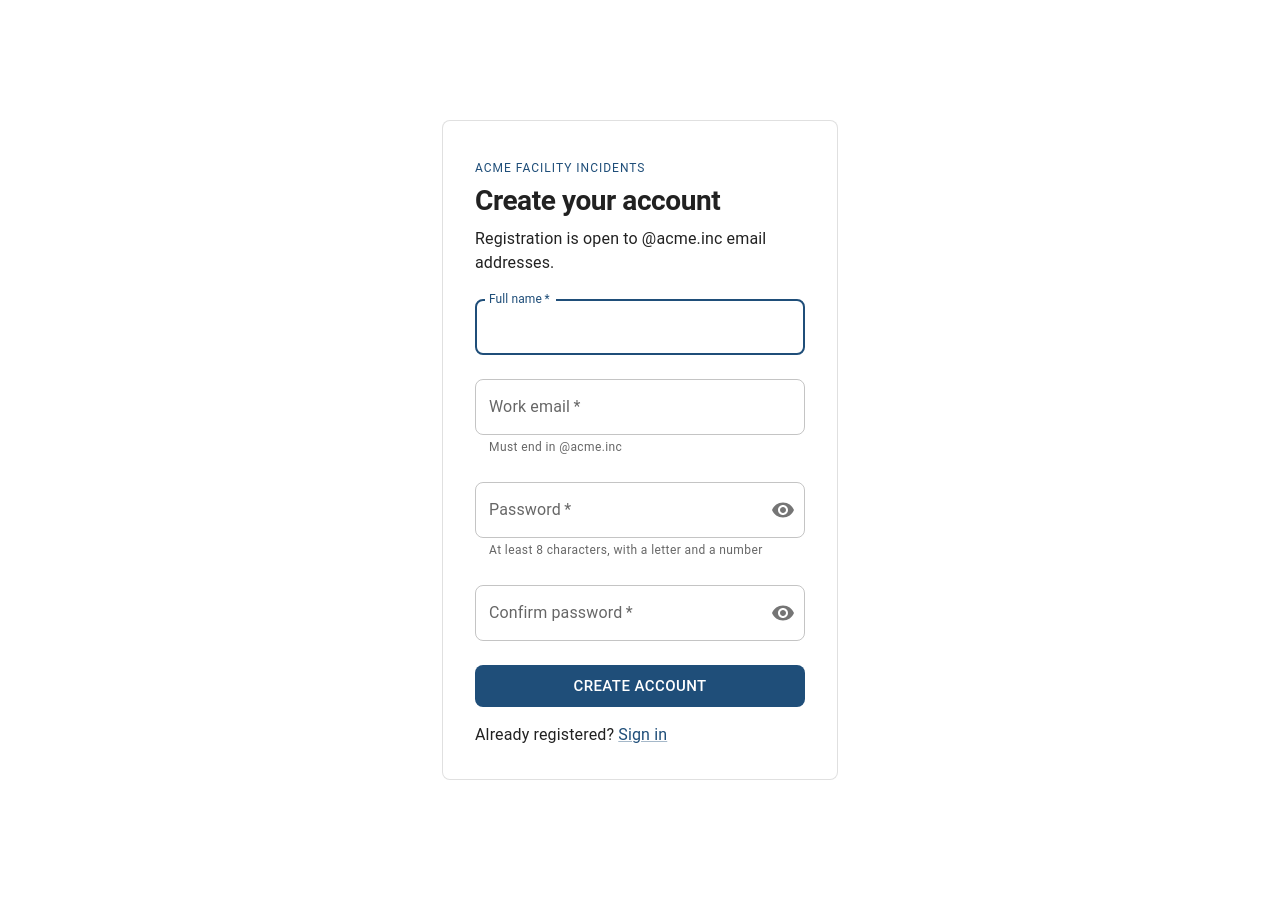
Test: App › a new employee registers and lands on their dashboard
Type "Alice Johnson" into the field labelled "Full name *" at (640, 327), box [475, 299, 805, 355]
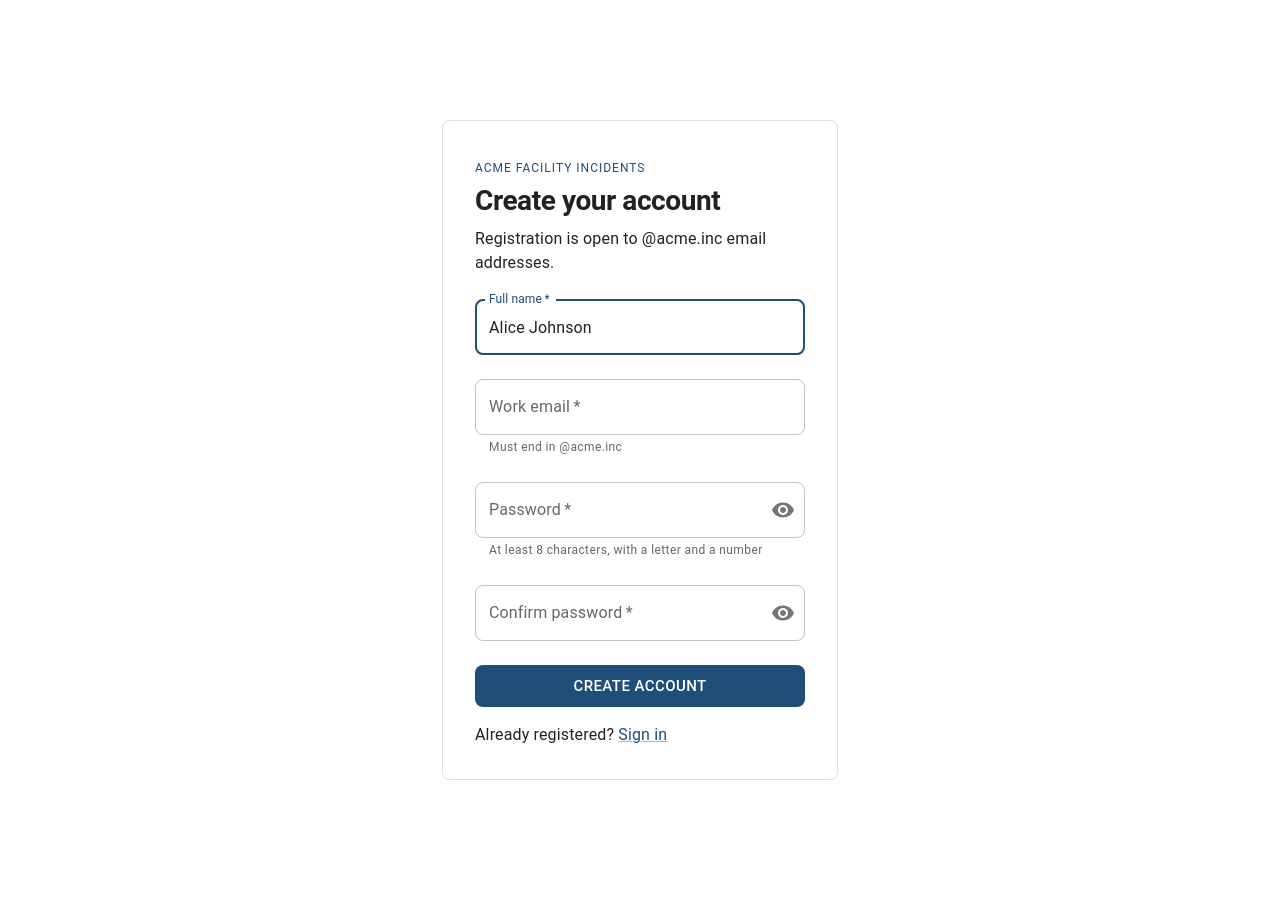
Type "alice@acme.inc" into the field labelled "Work email *" at (640, 407), box [475, 379, 805, 435]
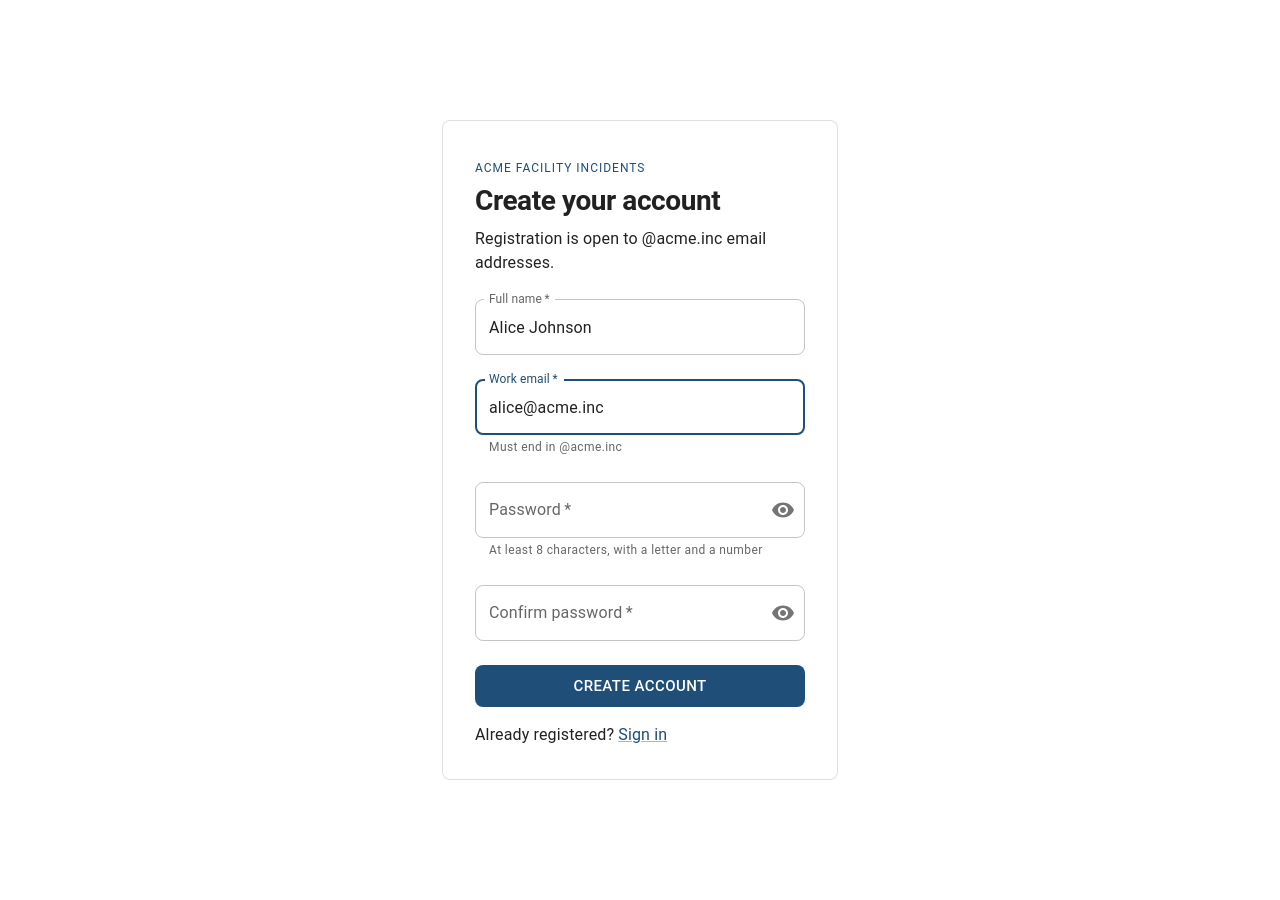
Type "passw0rd1" into the password field labelled "Password *" at (615, 510), box [475, 482, 755, 538]
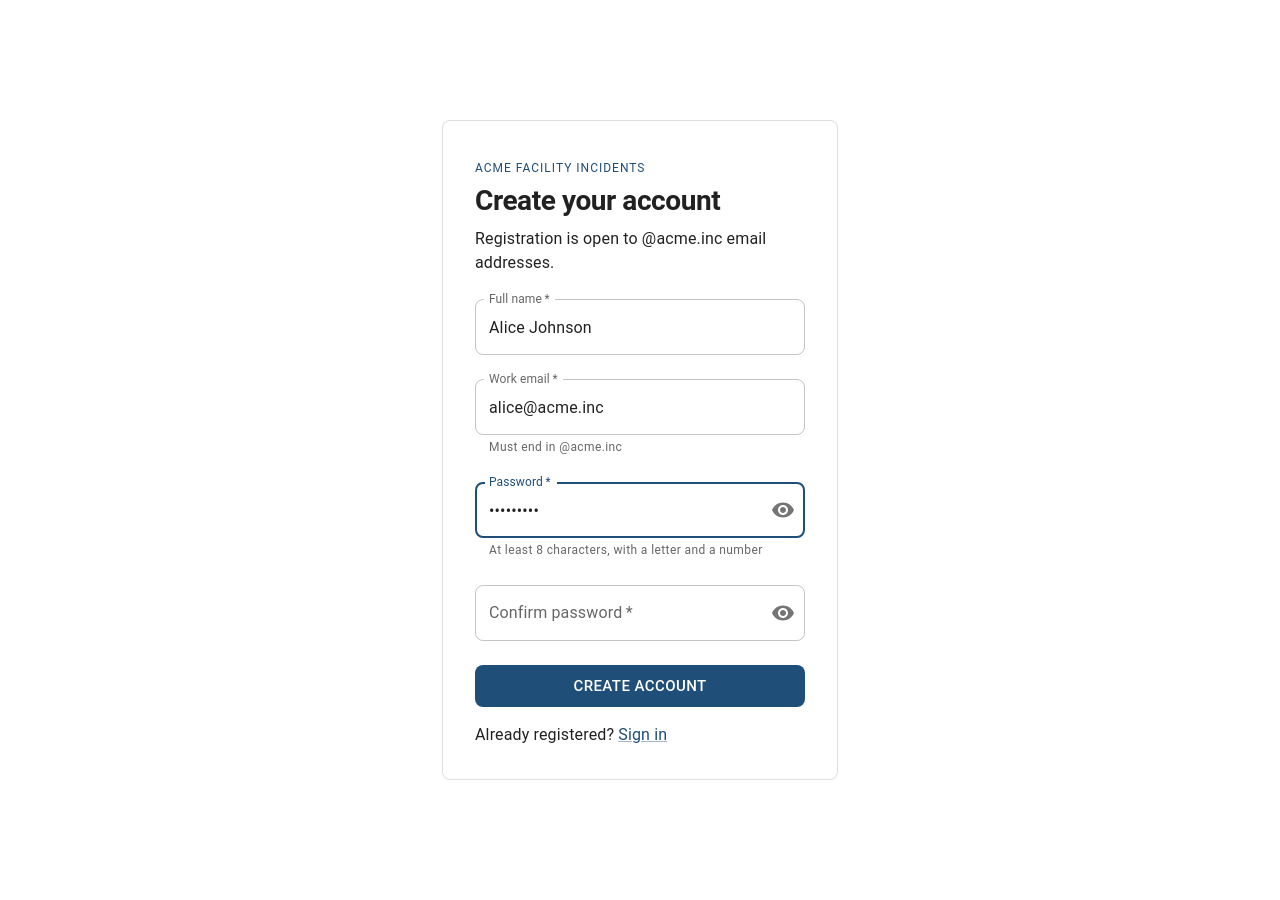
Type "passw0rd1" into the password field labelled "Confirm password *" at (615, 613), box [475, 585, 755, 641]
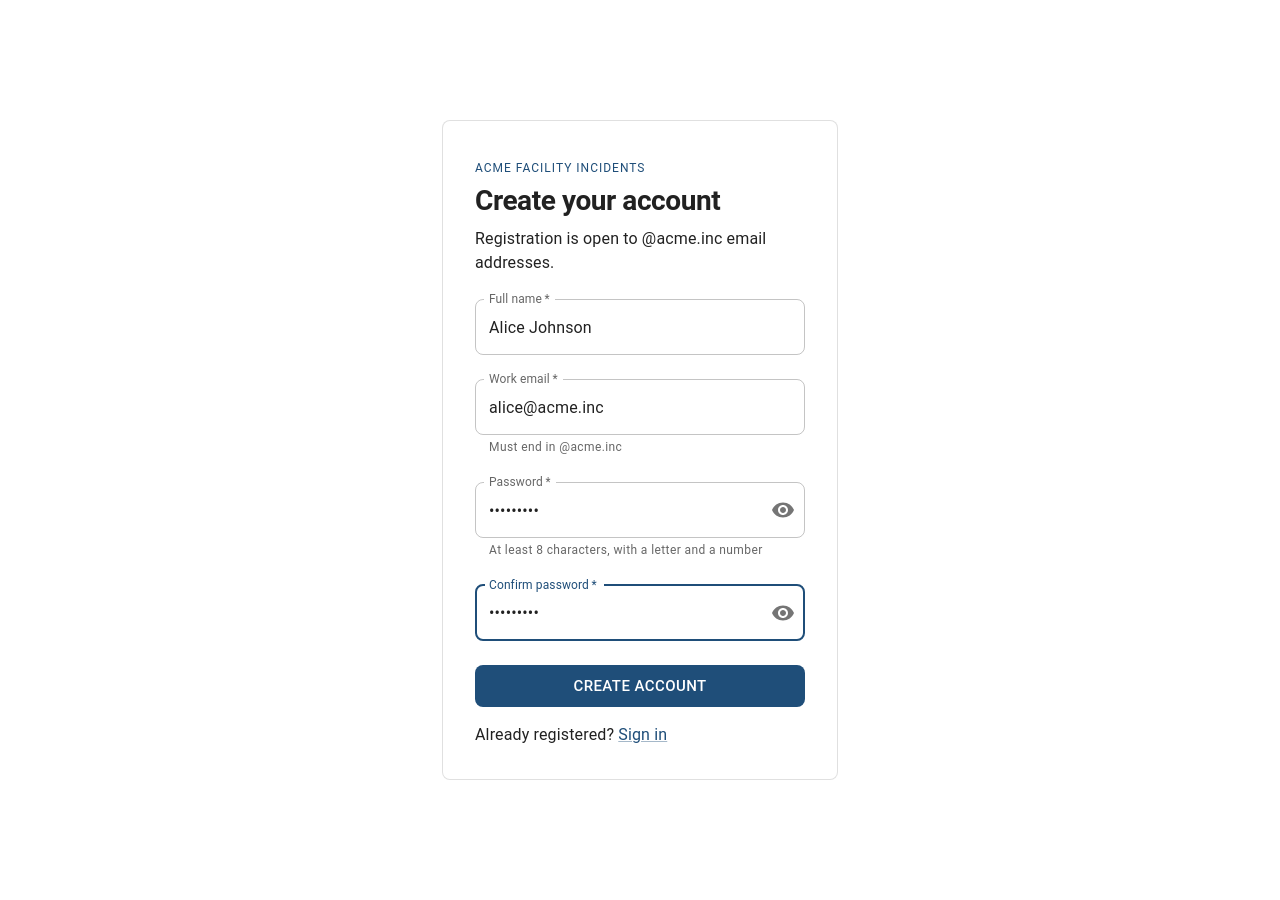
Click the button "Create account" at (640, 686), box [475, 665, 805, 707]
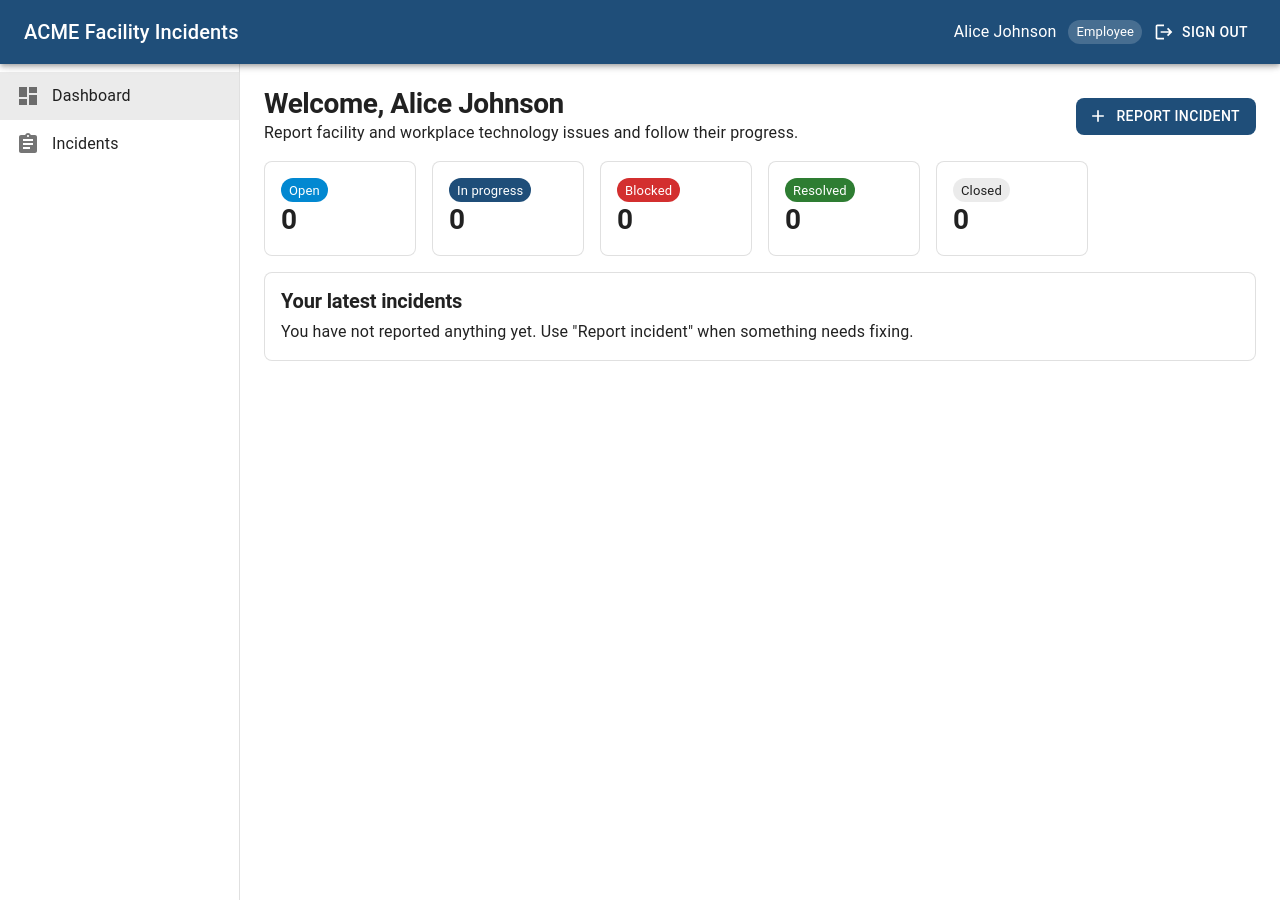
Now the heading "Welcome, Alice Johnson" is shown, box [264, 87, 564, 120]
Now the text "Report facility and workplace technology issues" is shown, box [264, 123, 798, 142]
